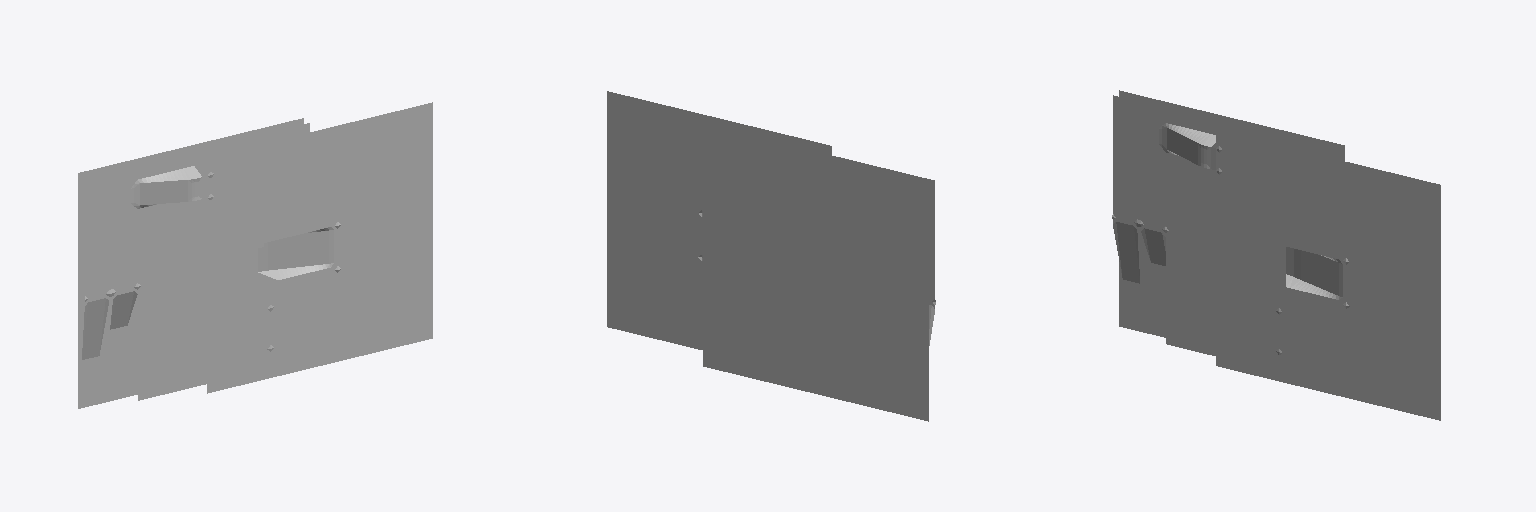
Rendered from multilayer-terrain-collision.obj.
3 views of the same model, side by side, from view 1: azimuth 30°, elevation 25°; view 2: azimuth 150°, elevation 25°; view 3: azimuth 330°, elevation 25° (orthographic).
Visible parts, largest first — view 1: Mesh; view 2: Mesh; view 3: Mesh.
Boxes of the visible parts, <box> form: Mesh: <box>78,102,432,408</box>; Mesh: <box>607,91,935,421</box>; Mesh: <box>1112,90,1440,420</box>.
Size of the model in its own units: 300 by 200 by 25.99.